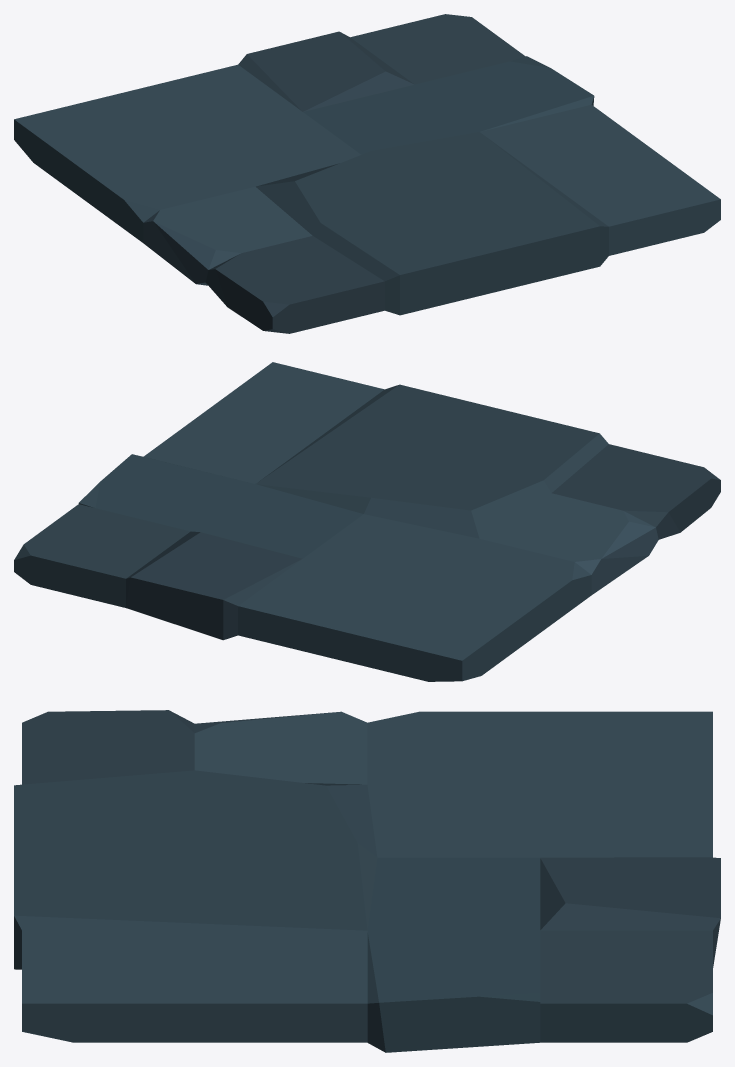
File: floor_element_4x4_one_step_high.fbx
The picture shows the model from 3 angles, top to bottom: view 1: azimuth 30°, elevation 25°; view 2: azimuth 150°, elevation 25°; view 3: azimuth 270°, elevation 25°; orthographic projection. The views are drawn at different scales.
Parts seen in each view (by area): view 1: floor_element_4x4_one_step_high; view 2: floor_element_4x4_one_step_high; view 3: floor_element_4x4_one_step_high.
Boxes of the visible parts, x1,y1,x2,y2 form: floor_element_4x4_one_step_high: (14,14,720,333); floor_element_4x4_one_step_high: (14,362,720,681); floor_element_4x4_one_step_high: (14,710,720,1052).
Bounding box in the file's own units: 409 × 43.77 × 409.
